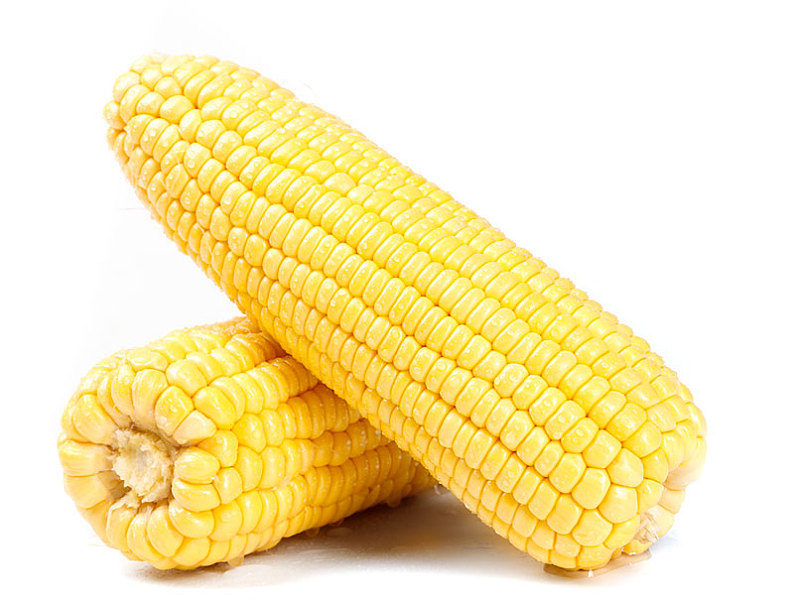corn: (109, 52, 686, 542), (57, 288, 551, 570)
